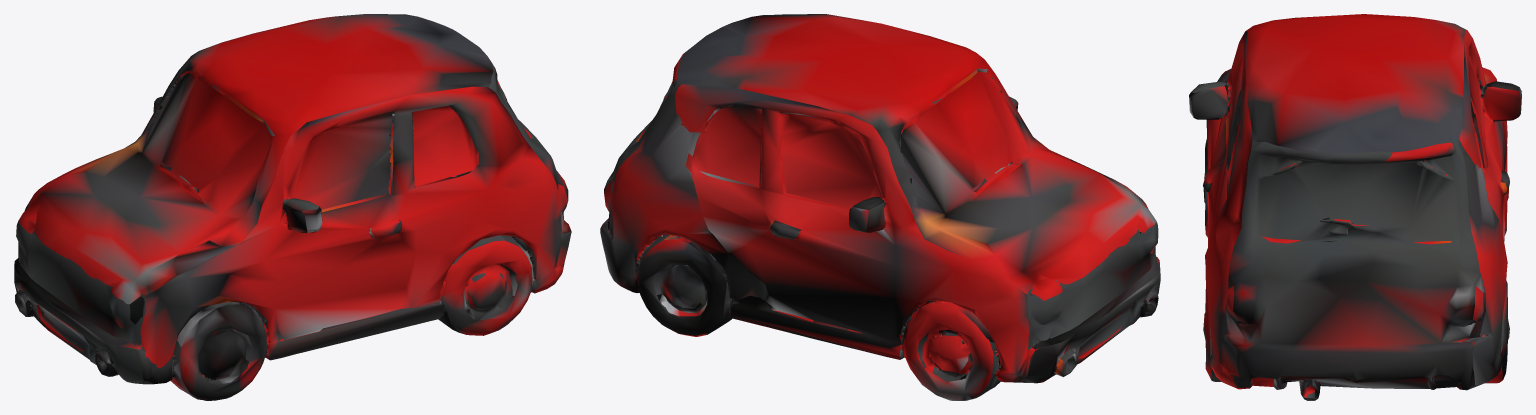
File: blue_bubble_car_red.glb
The picture shows the model from 3 angles, left to right: view 1: azimuth 30°, elevation 25°; view 2: azimuth 150°, elevation 25°; view 3: azimuth 270°, elevation 25°; orthographic projection. The views are drawn at different scales.
Bounding box in the file's own units: 1.99 × 1.05 × 1.15.
